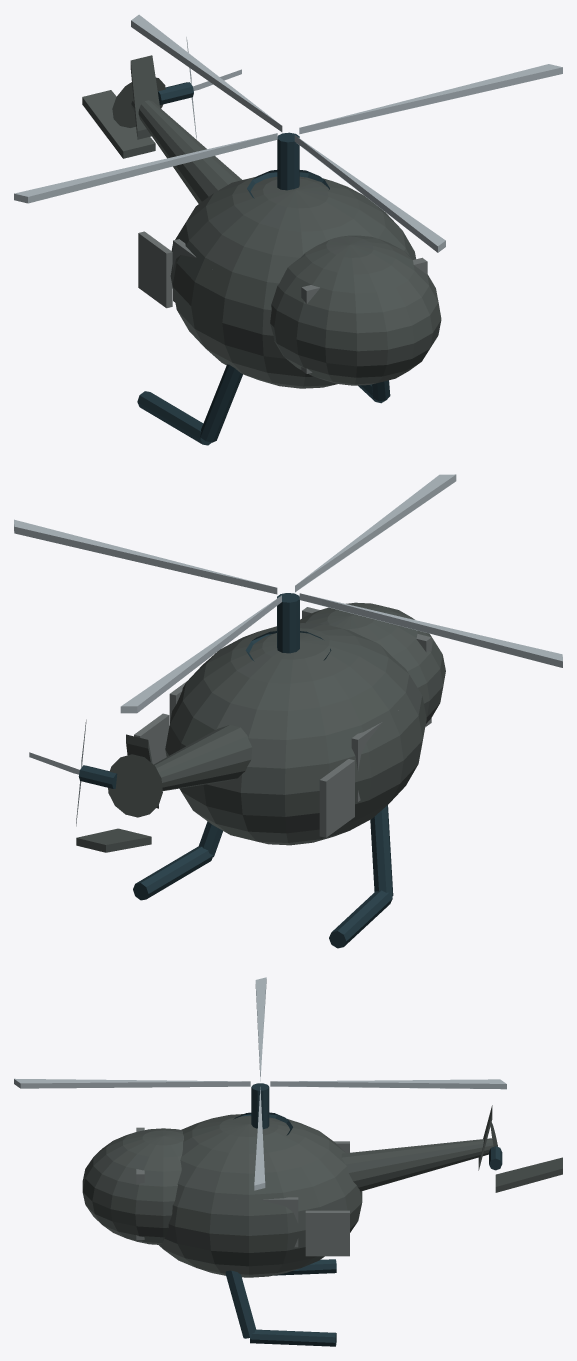
The model's file is as565-mbe-panther.glb.
3 views of the same model, one above another, from view 1: azimuth 30°, elevation 25°; view 2: azimuth 150°, elevation 25°; view 3: azimuth 270°, elevation 25° (orthographic). The views are drawn at different scales.
Parts seen in each view (by area): view 1: as565-mbe-panther; view 2: as565-mbe-panther; view 3: as565-mbe-panther.
Boxes of the visible parts, <box> form: as565-mbe-panther: <box>14,14,562,445</box>; as565-mbe-panther: <box>14,474,562,948</box>; as565-mbe-panther: <box>14,977,562,1346</box>.
Bounding box in the file's own units: 3 × 1.53 × 3.34.
